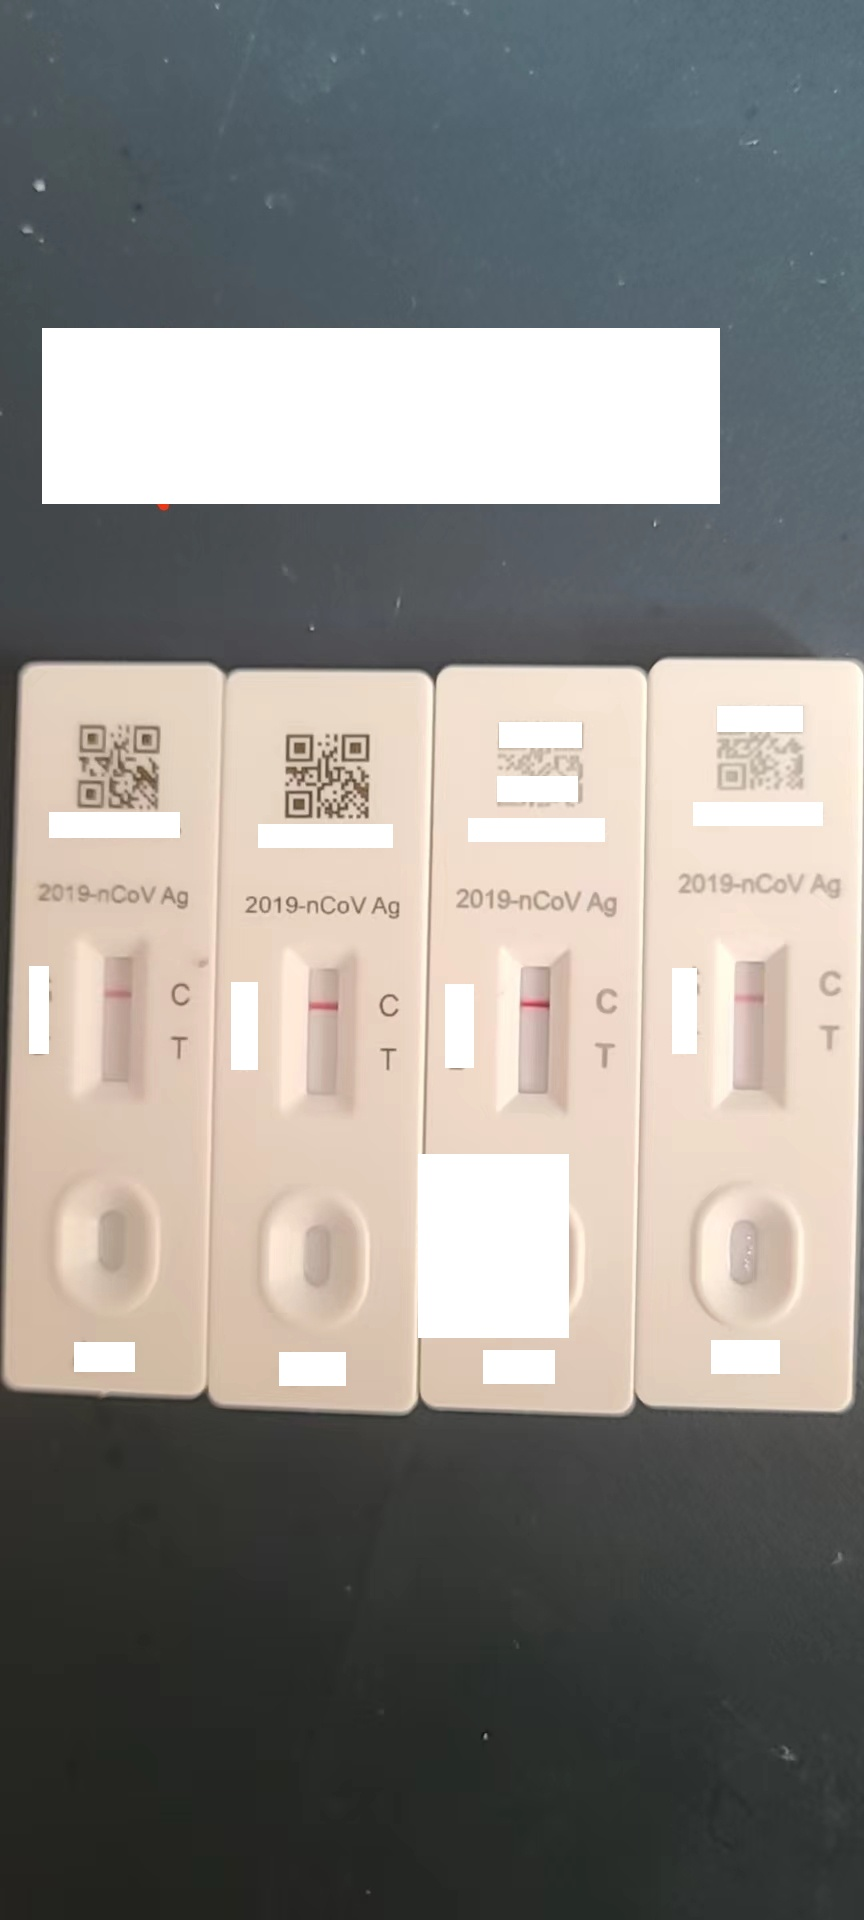negative: (721, 945, 787, 1114), (290, 953, 359, 1112), (502, 951, 568, 1111), (81, 943, 147, 1101)
